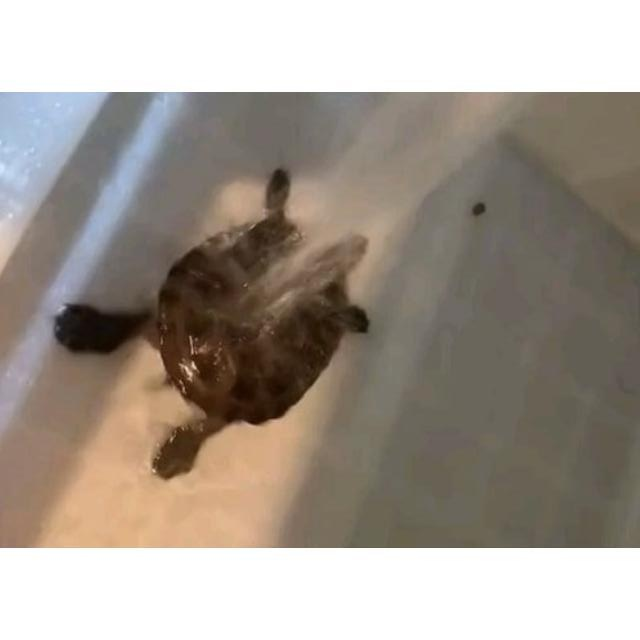turtle: (51, 165, 375, 483)
